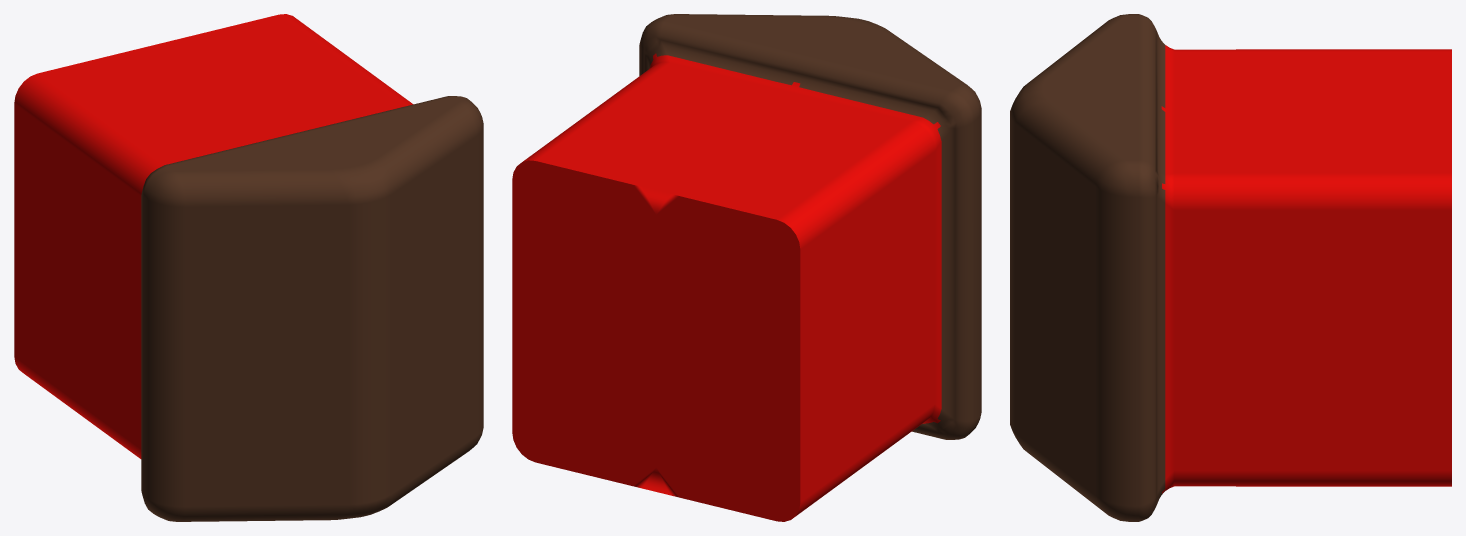
The model's file is network_templates.gltf.
3 renders of one model, left to right at view 1: azimuth 30°, elevation 25°; view 2: azimuth 150°, elevation 25°; view 3: azimuth 270°, elevation 25°, orthographic. The views are drawn at different scales.
Visible parts, largest first — view 1: building; view 2: building; view 3: building.
Part boxes in pixels (bbox=[...]): building: bbox=[14, 14, 483, 521]; building: bbox=[512, 14, 981, 521]; building: bbox=[1010, 14, 1451, 521].
Size of the model in its own units: 0.8091 by 0.8091 by 0.9018.
